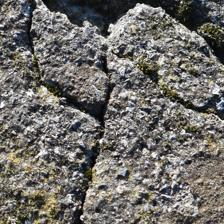Crack: (19, 80, 159, 140), (0, 32, 101, 89), (78, 33, 143, 88)
